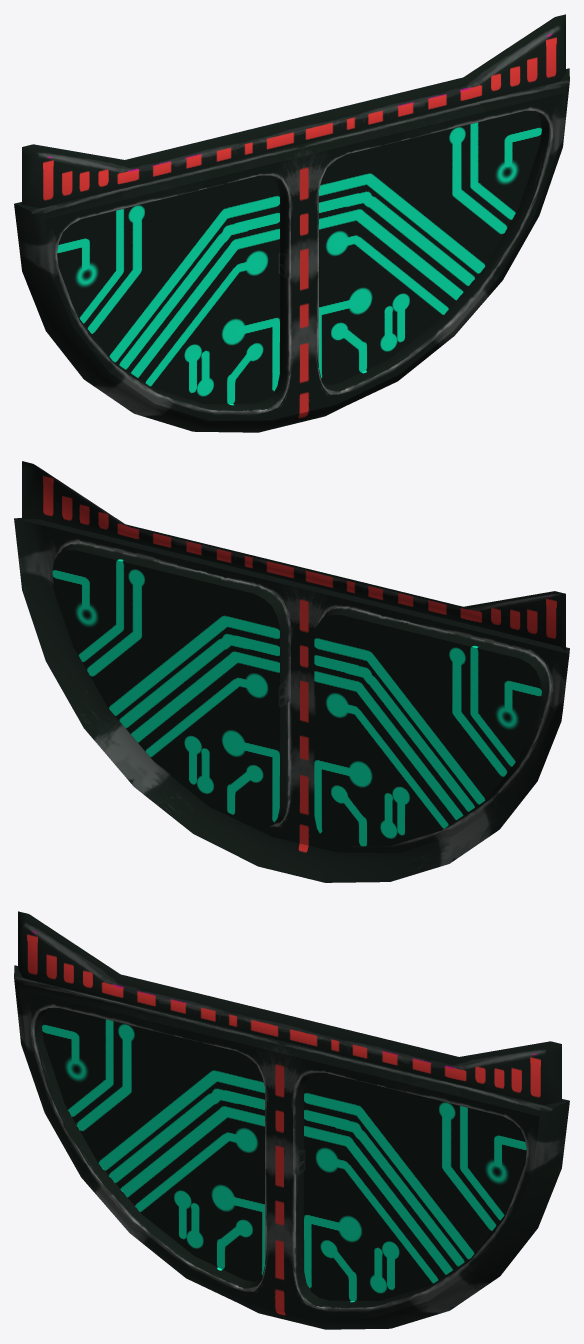
The model's file is Half_wall_text.dae.
3 renders of one model, top to bottom at view 1: azimuth 30°, elevation 25°; view 2: azimuth 150°, elevation 25°; view 3: azimuth 330°, elevation 25°, orthographic.
Parts seen in each view (by area): view 1: Round_corridor_cyberpunk_Traps_v4; view 2: Round_corridor_cyberpunk_Traps_v4; view 3: Round_corridor_cyberpunk_Traps_v4.
Boxes of the visible parts, box(x1,y1,x2,y2) form: Round_corridor_cyberpunk_Traps_v4: box(14, 14, 569, 432); Round_corridor_cyberpunk_Traps_v4: box(14, 461, 569, 882); Round_corridor_cyberpunk_Traps_v4: box(14, 911, 569, 1329).
Bounding box in the file's own units: 15.86 × 0.6148 × 9.43.
1 material, 1 textured.
